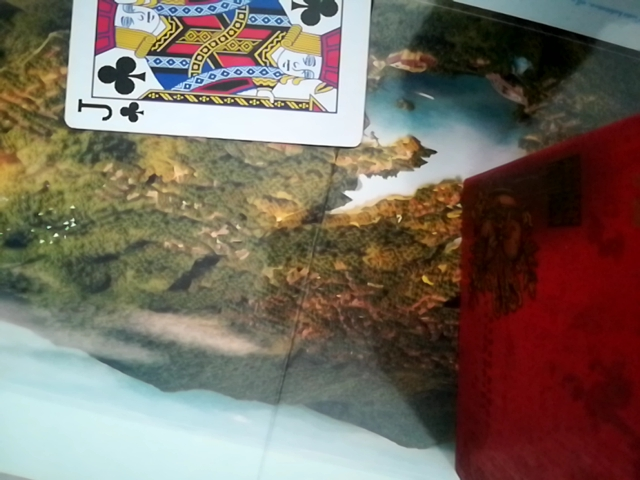mh j: (53, 0, 377, 147)
